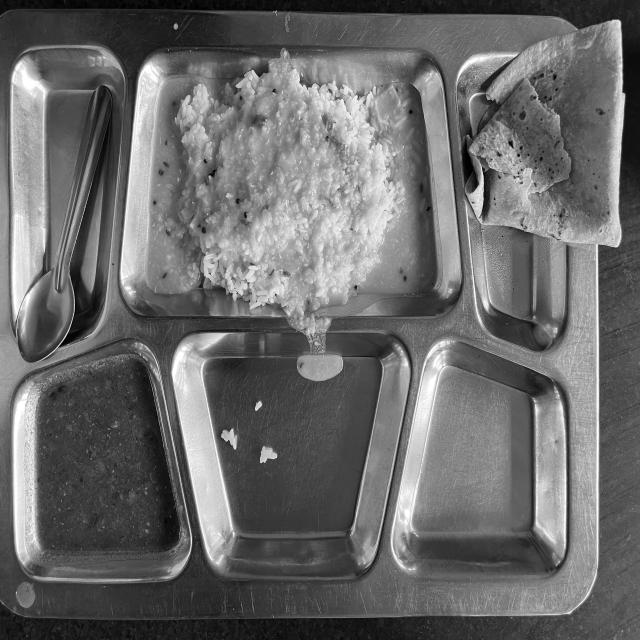50.6- Food Left: (3, 22, 592, 588)
